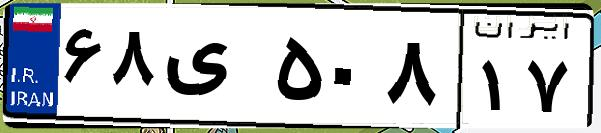0: (330, 28, 385, 110)
1: (475, 38, 525, 113)
5: (270, 28, 330, 110)
6: (57, 26, 110, 100)
7: (525, 38, 570, 115)
8: (385, 28, 445, 110), (110, 28, 158, 98)
ی: (158, 20, 270, 120)
